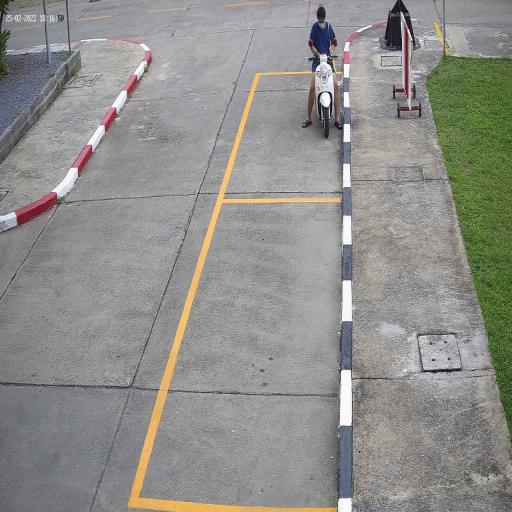motorcycle: (312, 52, 338, 141)
